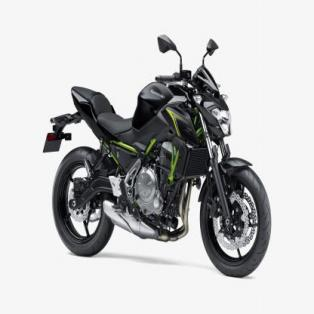Motocicleta: (40, 22, 272, 282)
